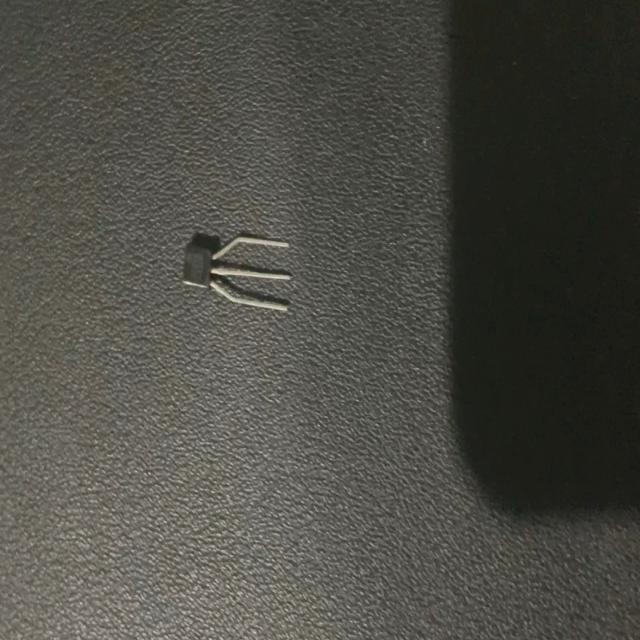BJT: (180, 228, 296, 318)
